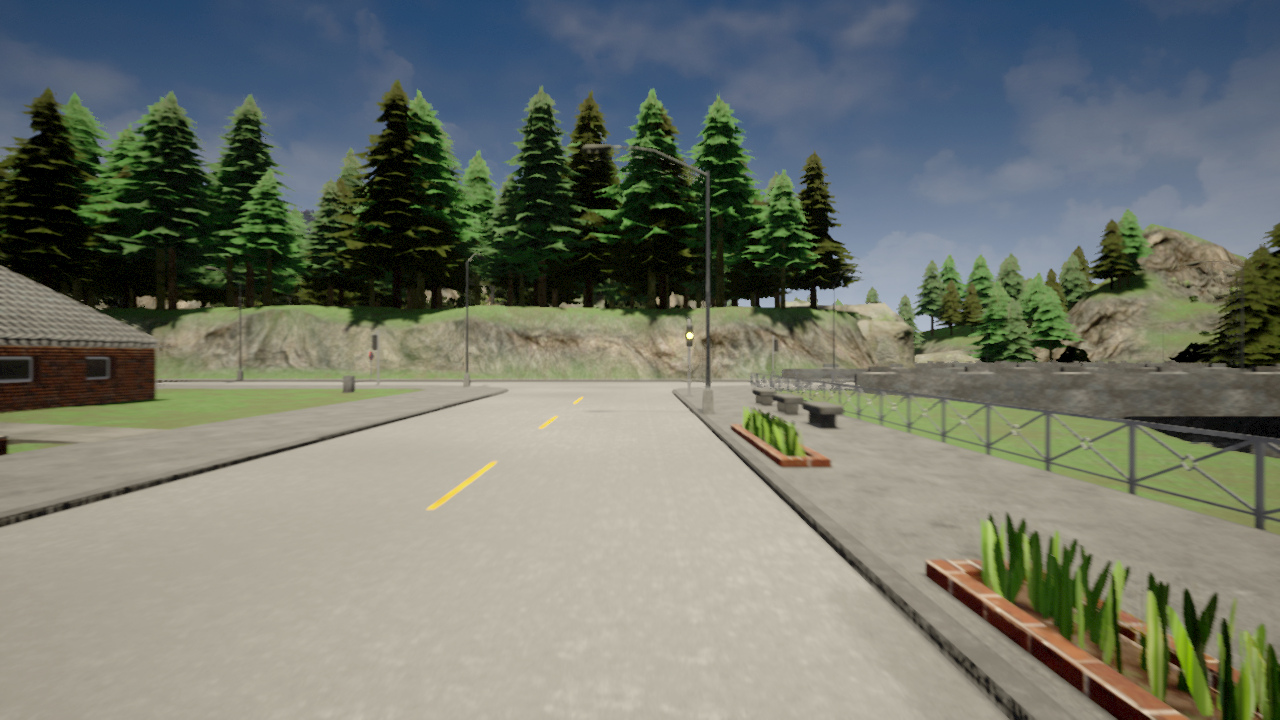yellow: (685, 326, 694, 347)
